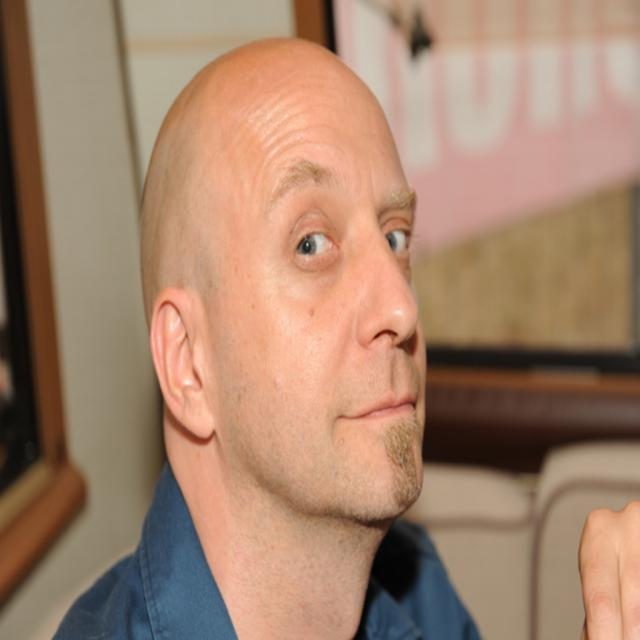closed-mouth: (333, 396, 421, 428)
